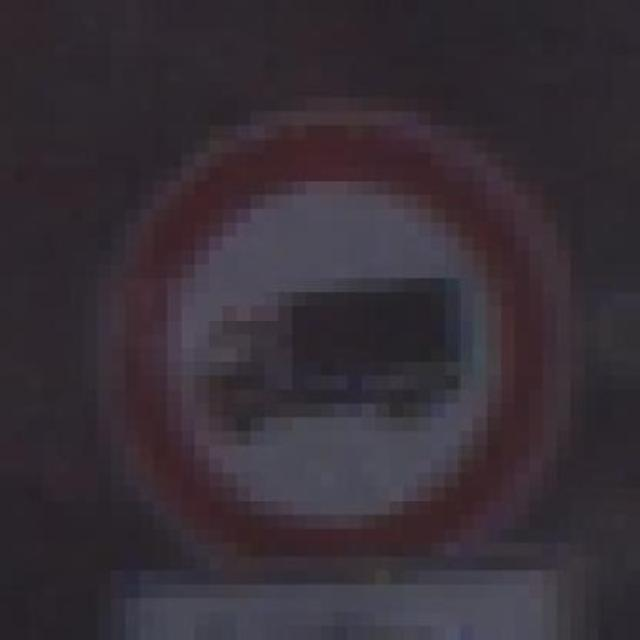Truck traffic is prohibited: (110, 69, 584, 585)
